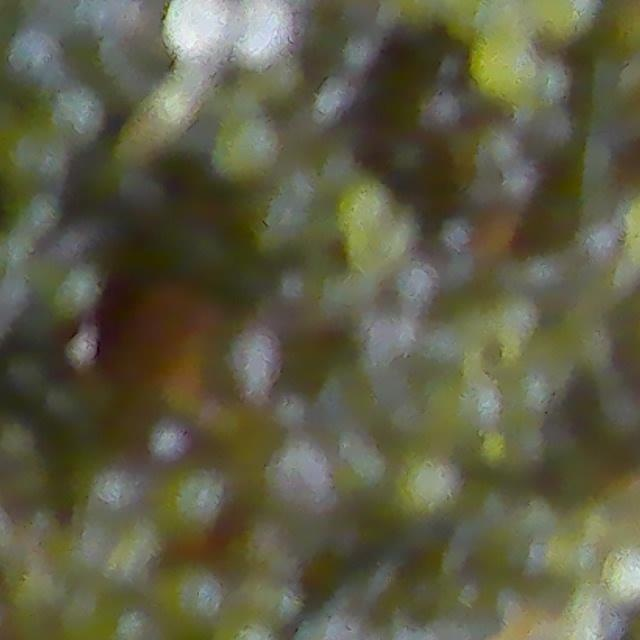SeaGrape: (154, 562, 227, 634), (163, 0, 232, 65), (238, 0, 293, 60), (601, 549, 639, 603)
